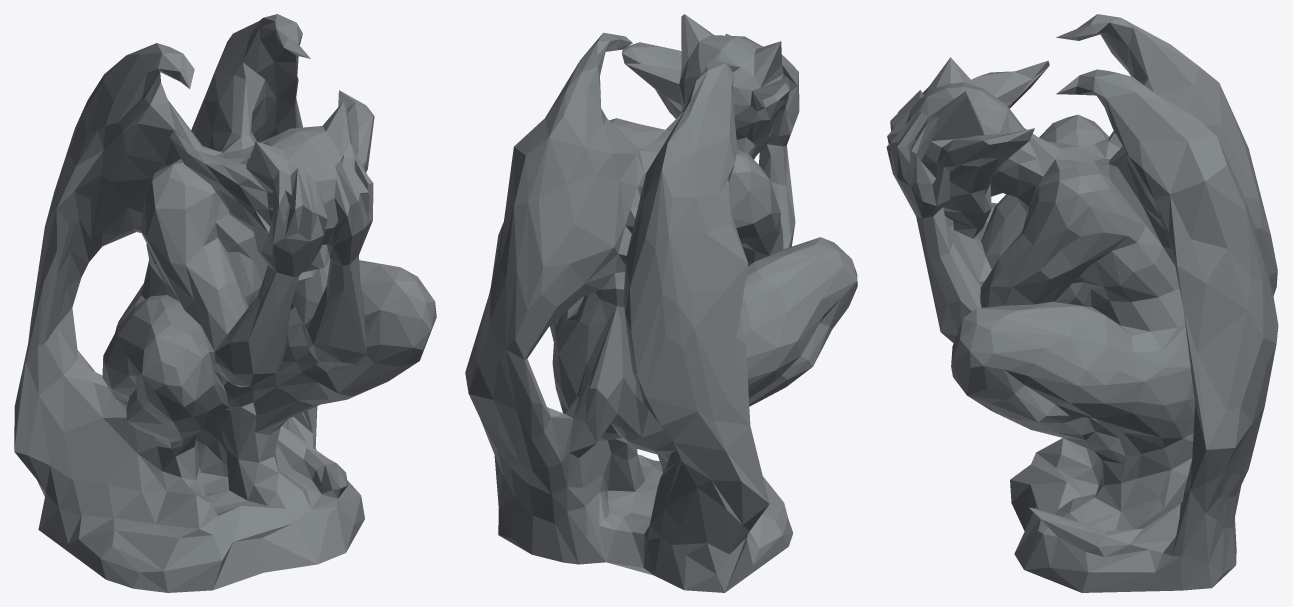
File: Gargouille_4.FBX
The picture shows the model from 3 angles, left to right: view 1: azimuth 30°, elevation 25°; view 2: azimuth 150°, elevation 25°; view 3: azimuth 270°, elevation 25°; orthographic projection. The views are drawn at different scales.
Visible parts, largest first — view 1: Gargouille_4; view 2: Gargouille_4; view 3: Gargouille_4.
Part boxes in pixels (x1,y1,x2,y2): Gargouille_4: [14, 14, 436, 592]; Gargouille_4: [465, 14, 857, 592]; Gargouille_4: [886, 14, 1278, 592].
Bounding box in the file's own units: 58.81 × 89.06 × 64.84.
